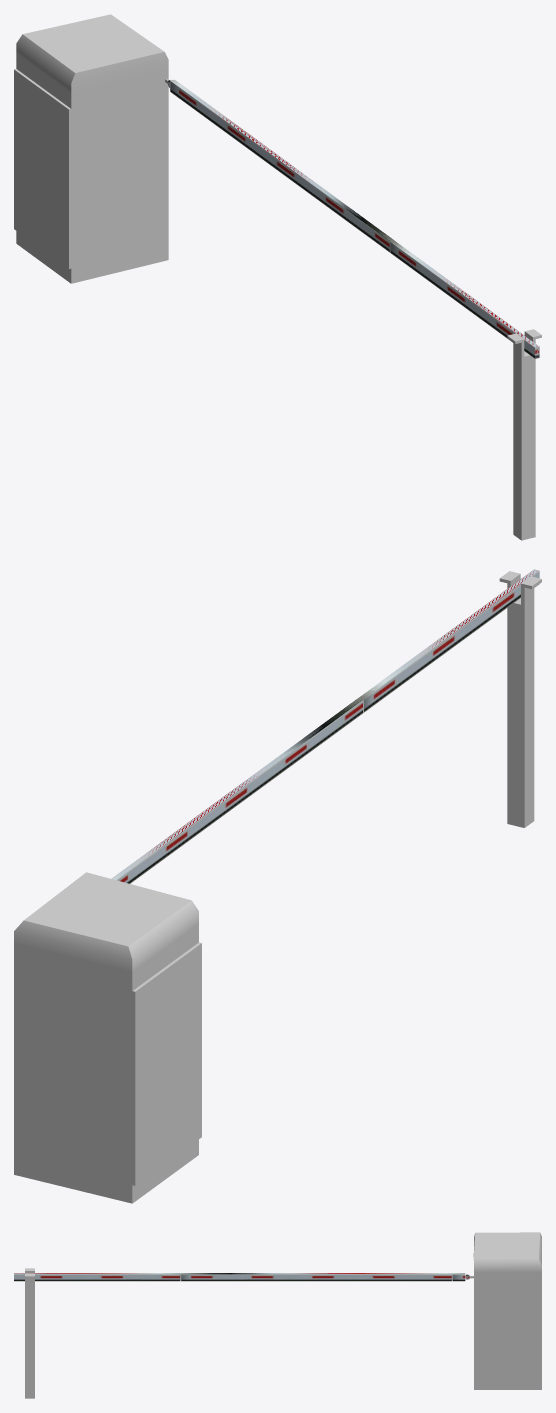
File: liluojia.FBX
3 views of the same model, one above another, from view 1: azimuth 30°, elevation 25°; view 2: azimuth 150°, elevation 25°; view 3: azimuth 270°, elevation 25° (orthographic). The views are drawn at different scales.
Parts seen in each view (by area): view 1: Box001, Box005; view 2: Box001, Box005; view 3: Box001, Box005.
Part boxes in pixels (x1=…): Box001: x1=14, y1=14, x2=541, y2=540; Box005: x1=167, y1=79, x2=539, y2=358; Box001: x1=14, y1=571, x2=541, y2=1203; Box005: x1=111, y1=569, x2=539, y2=883; Box001: x1=25, y1=1232, x2=541, y2=1398; Box005: x1=14, y1=1273, x2=469, y2=1281.
Bounding box in the file's own units: 58.46 × 113 × 393.
1 material, 1 textured.
